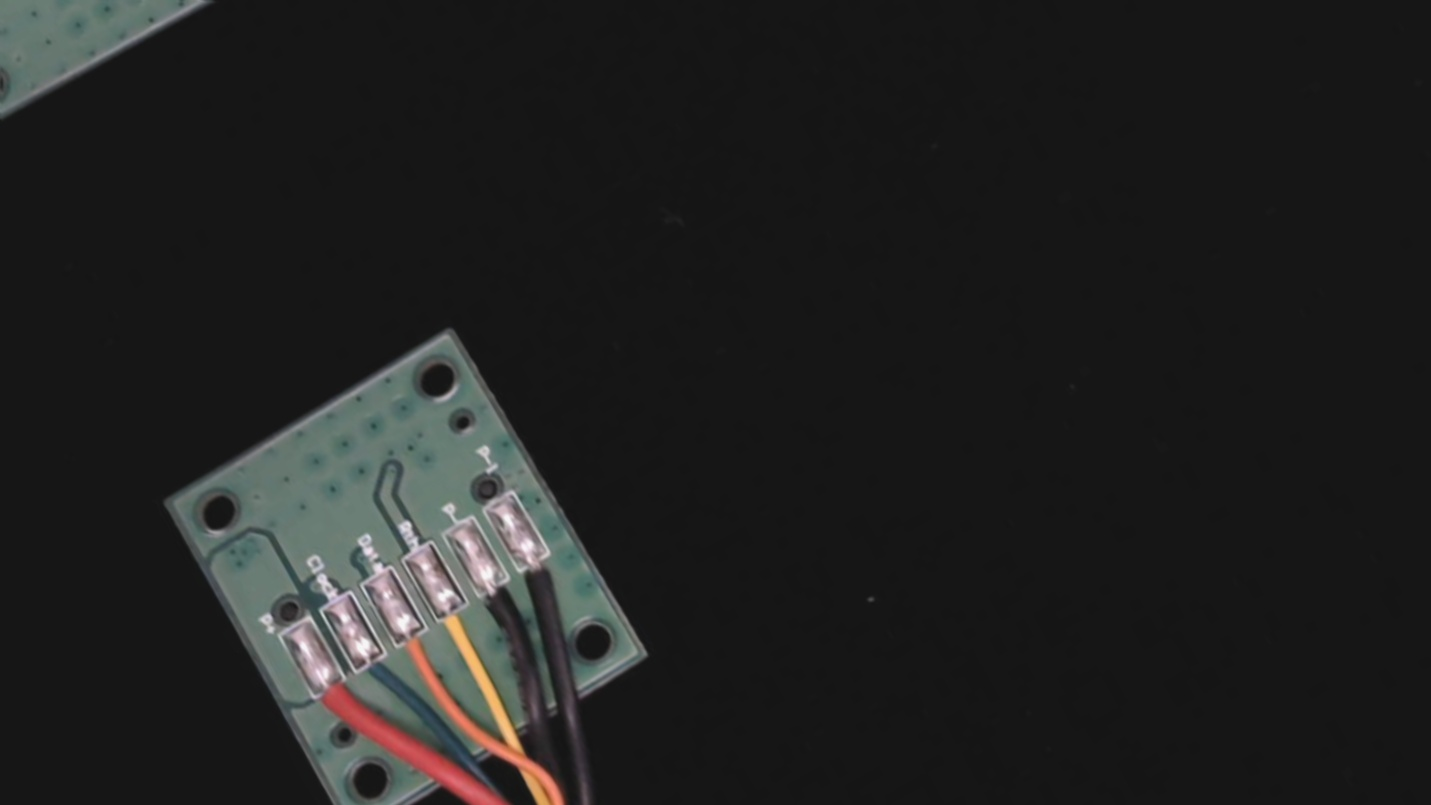Black: (462, 559, 541, 647)
Black1: (503, 534, 583, 624)
Green: (340, 634, 416, 720)
Orange: (382, 611, 455, 691)
Red: (297, 660, 373, 746)
Yellow: (420, 585, 500, 676)
